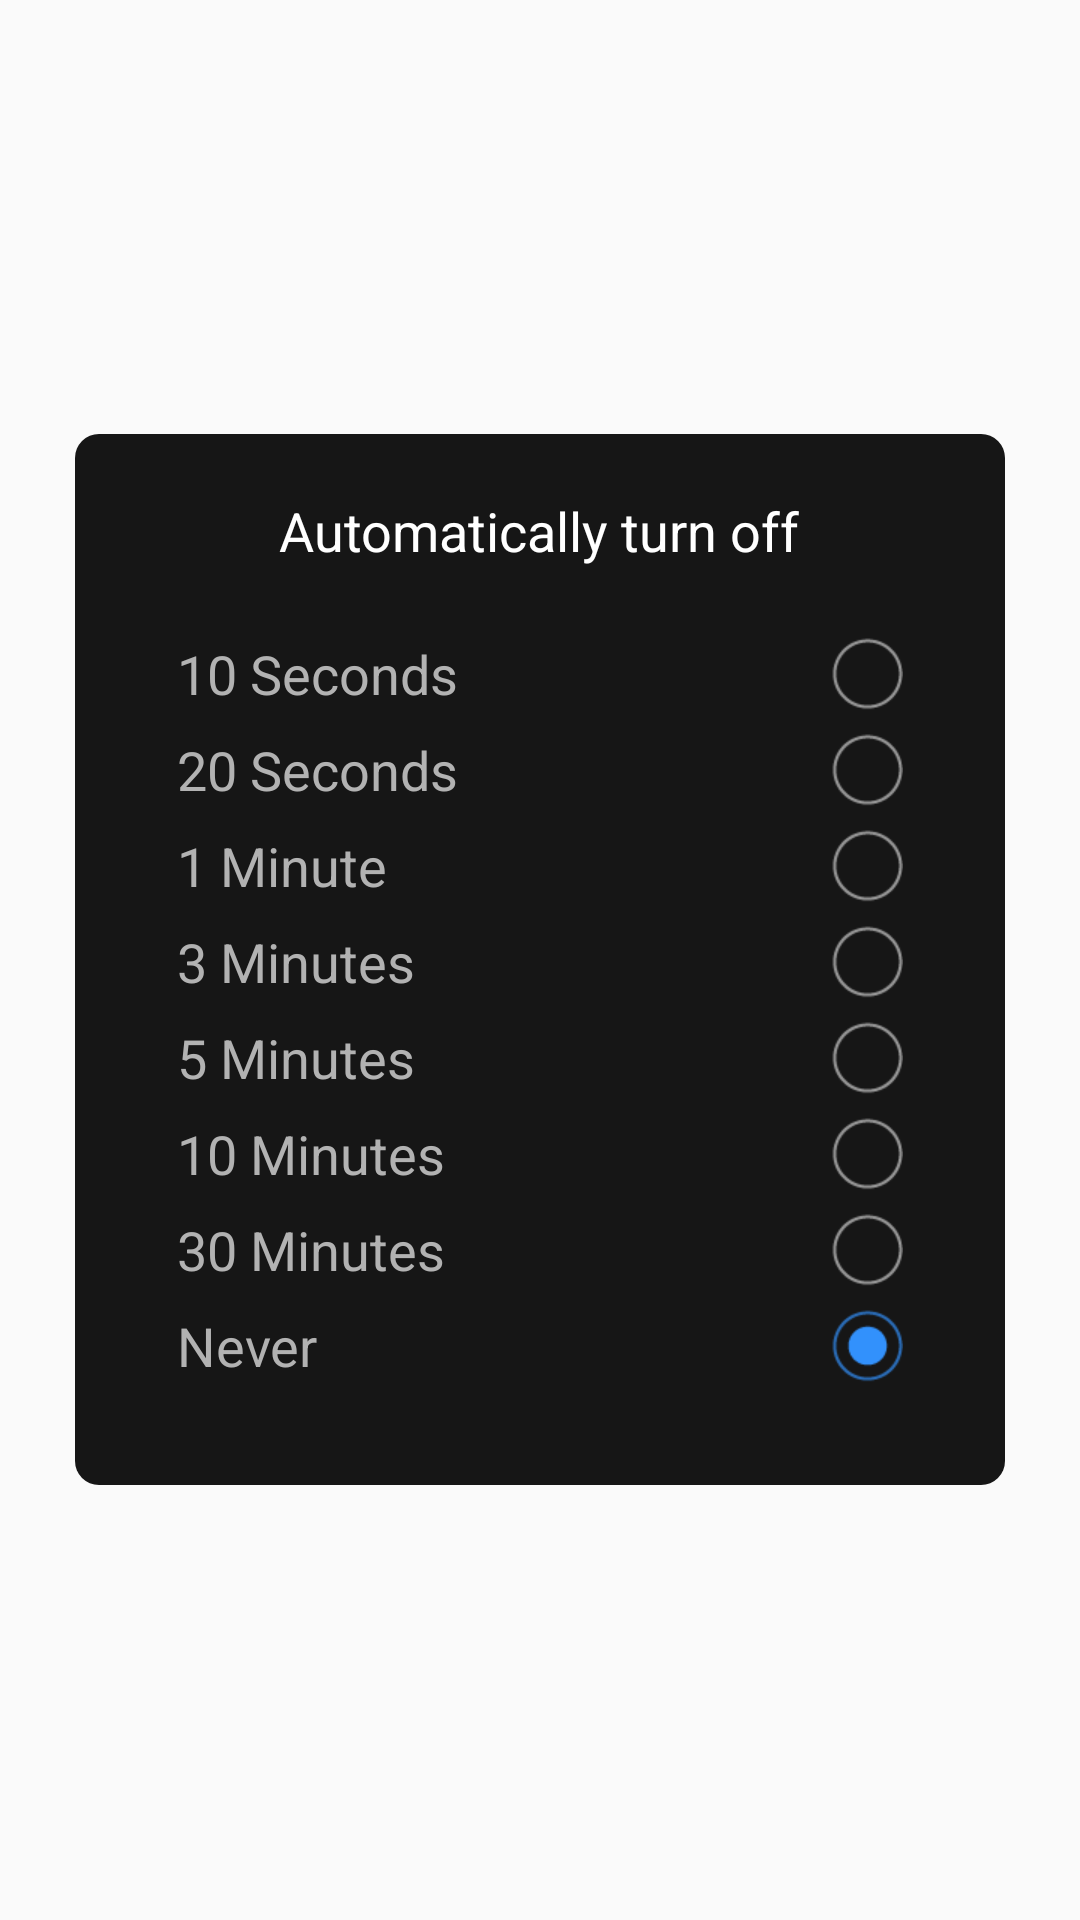

Named icons in this screenshot (1080*1920) and their bounding boxes, BBox(x1, y1, x2, y2):
choose: BBox(832, 638, 903, 709), BBox(832, 734, 903, 805), BBox(832, 830, 903, 901), BBox(832, 926, 903, 997), BBox(832, 1022, 903, 1093), BBox(832, 1118, 903, 1189), BBox(832, 1214, 903, 1285), BBox(832, 1310, 903, 1381)
